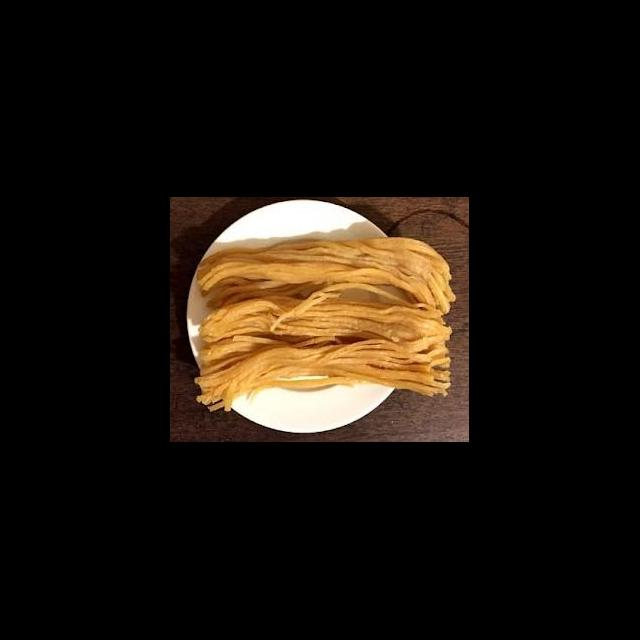mi: (190, 234, 460, 413)
